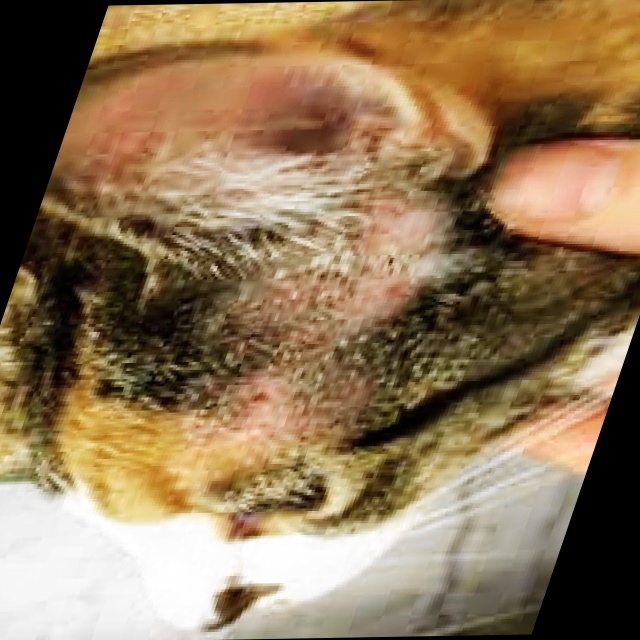ringworm: (192, 349, 327, 477), (353, 234, 429, 307)
